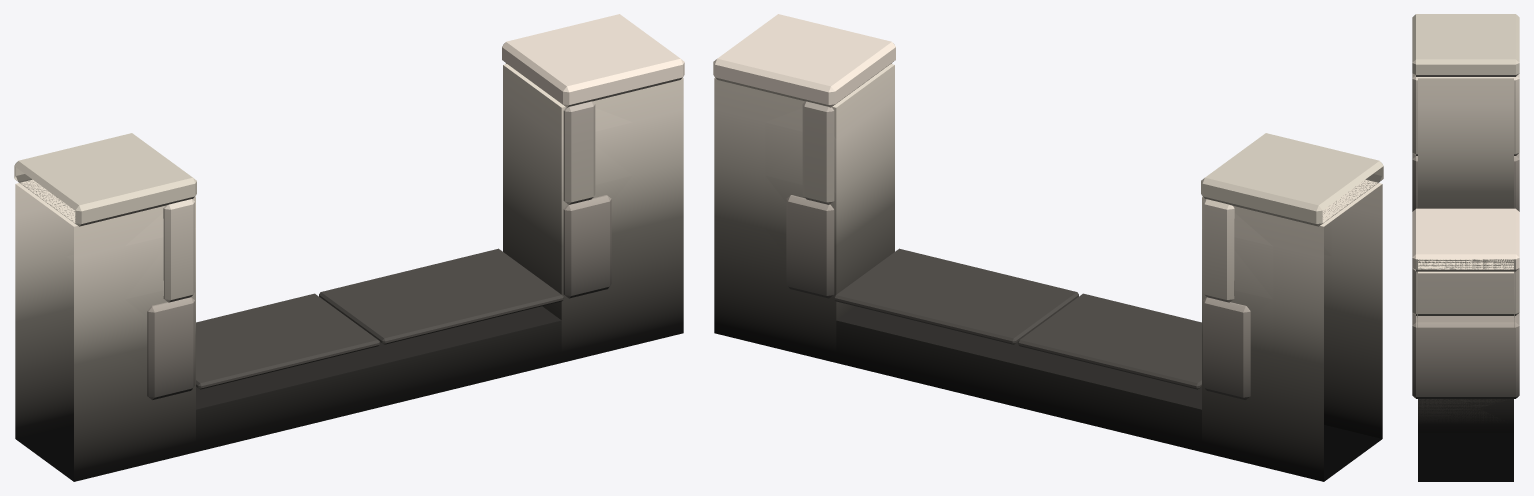
The model's file is SM_VKI_Wall_Dungeon_DoorWide_300_Cut.fbx.
3 renders of one model, left to right at view 1: azimuth 30°, elevation 25°; view 2: azimuth 150°, elevation 25°; view 3: azimuth 270°, elevation 25°, orthographic. The views are drawn at different scales.
Visible parts, largest first — view 1: SM_VKI_Wall_Dungeon_DoorWide_300_Cut.001; view 2: SM_VKI_Wall_Dungeon_DoorWide_300_Cut.001; view 3: SM_VKI_Wall_Dungeon_DoorWide_300_Cut.001.
Boxes of the visible parts, <box> form: SM_VKI_Wall_Dungeon_DoorWide_300_Cut.001: <box>14,14,684,481</box>; SM_VKI_Wall_Dungeon_DoorWide_300_Cut.001: <box>713,14,1383,481</box>; SM_VKI_Wall_Dungeon_DoorWide_300_Cut.001: <box>1412,14,1519,481</box>.
Size of the model in its own units: 3 by 1.3 by 0.56.
